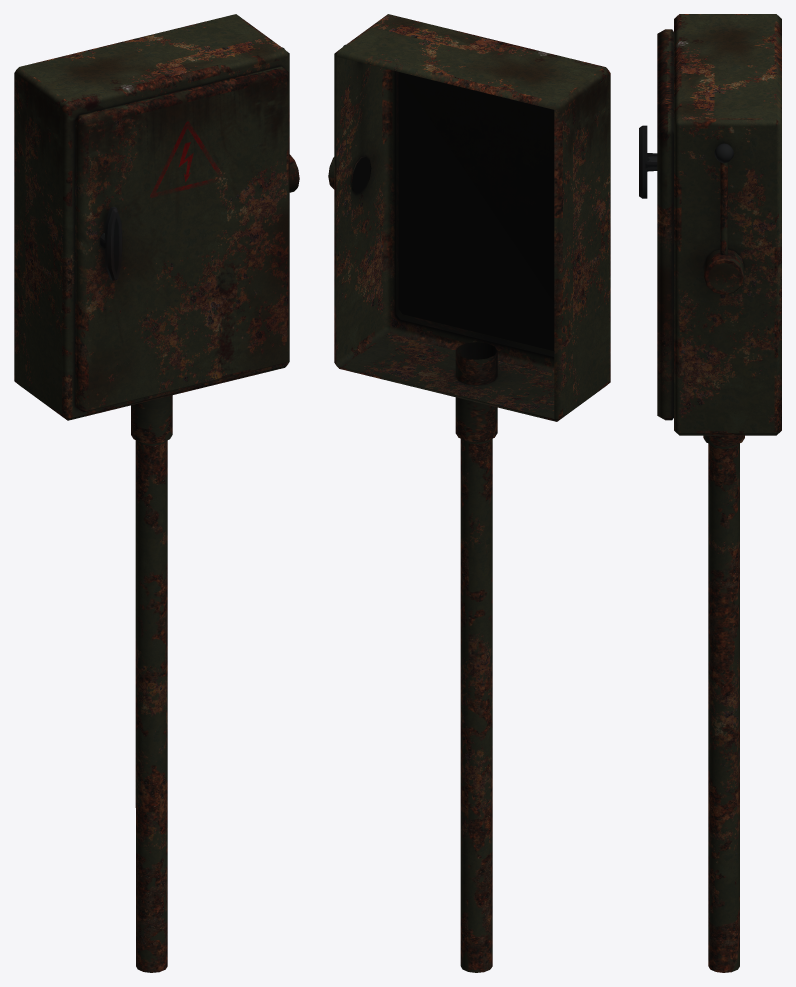
Rendered from ElectroBox_01.fbx.
3 views of the same model, side by side, from view 1: azimuth 30°, elevation 25°; view 2: azimuth 150°, elevation 25°; view 3: azimuth 270°, elevation 25° (orthographic).
Parts seen in each view (by area): view 1: ElectroBox_01; view 2: ElectroBox_01; view 3: ElectroBox_01, Handle.
Part boxes in pixels (bbox=[...]): ElectroBox_01: bbox=[14, 14, 289, 972]; ElectroBox_01: bbox=[334, 14, 610, 972]; ElectroBox_01: bbox=[639, 14, 781, 972]; Handle: bbox=[704, 143, 744, 294].
Bounding box in the file's own units: 61.4 × 213 × 30.62.
Materials: 1 (1 with a texture image).
